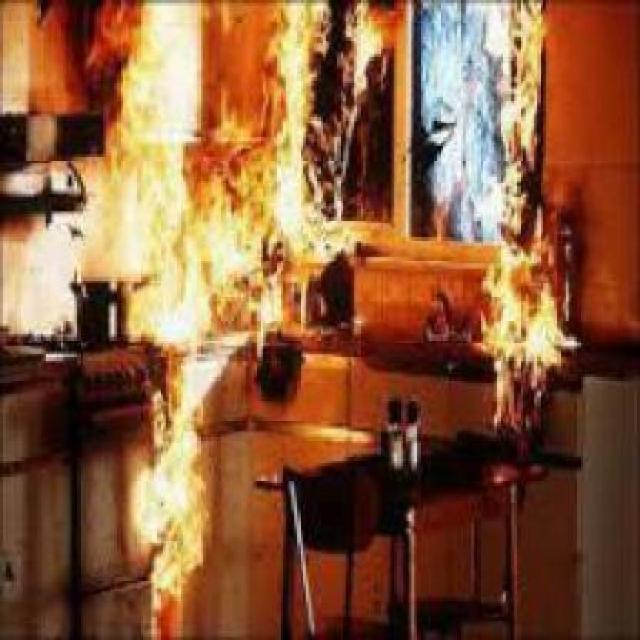Fire: (98, 0, 378, 330), (482, 0, 583, 442), (129, 340, 223, 640)
